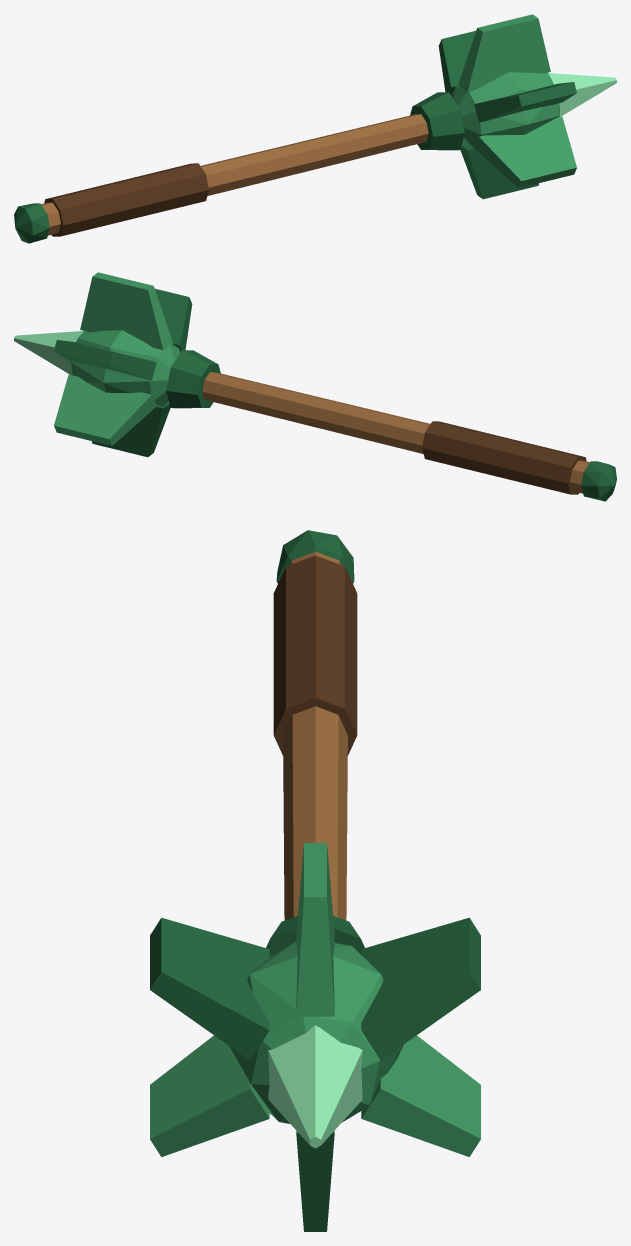
The model's file is drop_adamant_mace.glb.
3 views of the same model, one above another, from view 1: azimuth 30°, elevation 25°; view 2: azimuth 150°, elevation 25°; view 3: azimuth 270°, elevation 25° (orthographic). The views are drawn at different scales.
Visible parts, largest first — view 1: drop_adamant_mace; view 2: drop_adamant_mace; view 3: drop_adamant_mace.
Boxes of the visible parts, x1=… form: drop_adamant_mace: x1=14, y1=14, x2=616, y2=243; drop_adamant_mace: x1=14, y1=272, x2=616, y2=501; drop_adamant_mace: x1=150, y1=530, x2=480, y2=1231.
Bounding box in the file's own units: 0.6912 × 0.184 × 0.1651.
